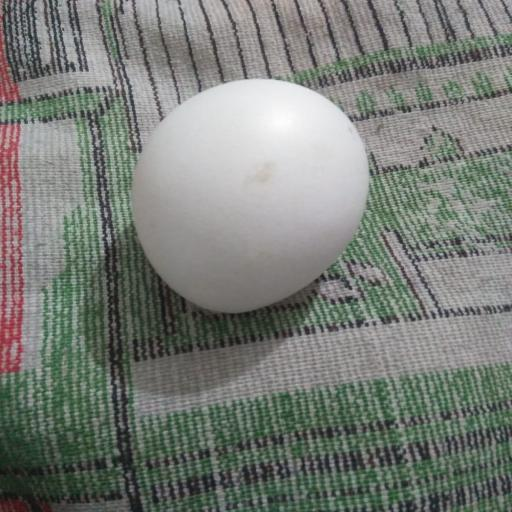telur: (125, 73, 373, 322)
